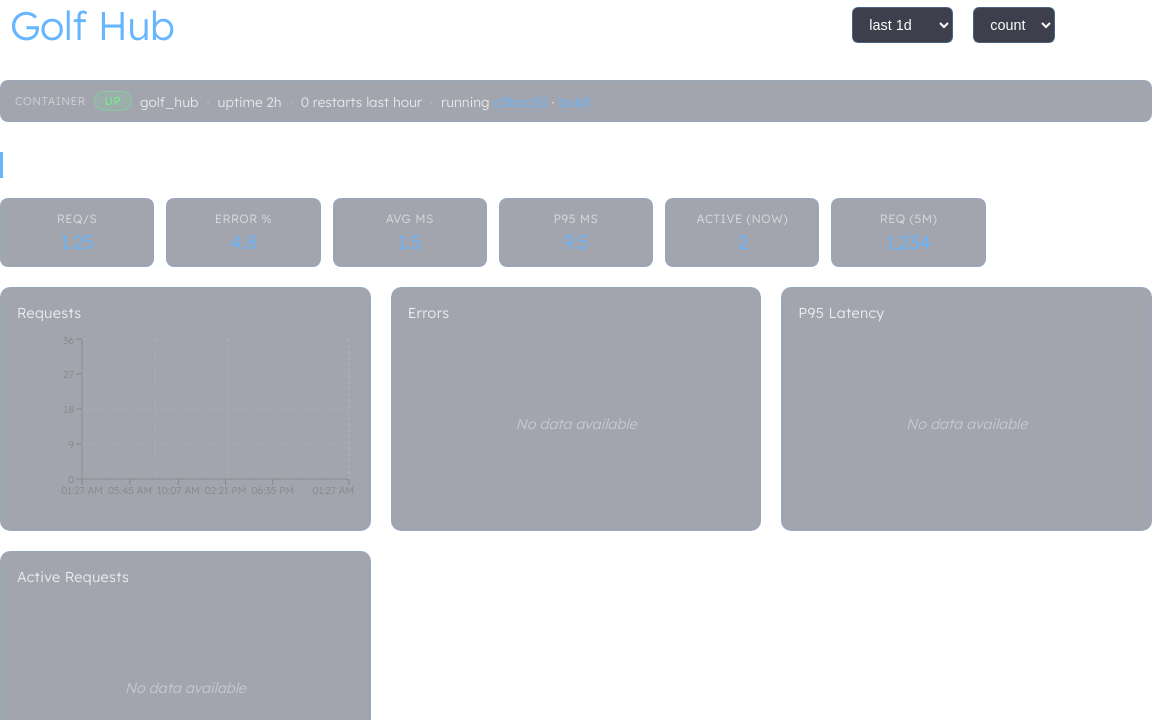
Test case: ServiceDashboard › switches counter tiles between count and rate
Select "rate" in the dropdown named "Counter view" at (1014, 25), box 973,7 -> 1055,43
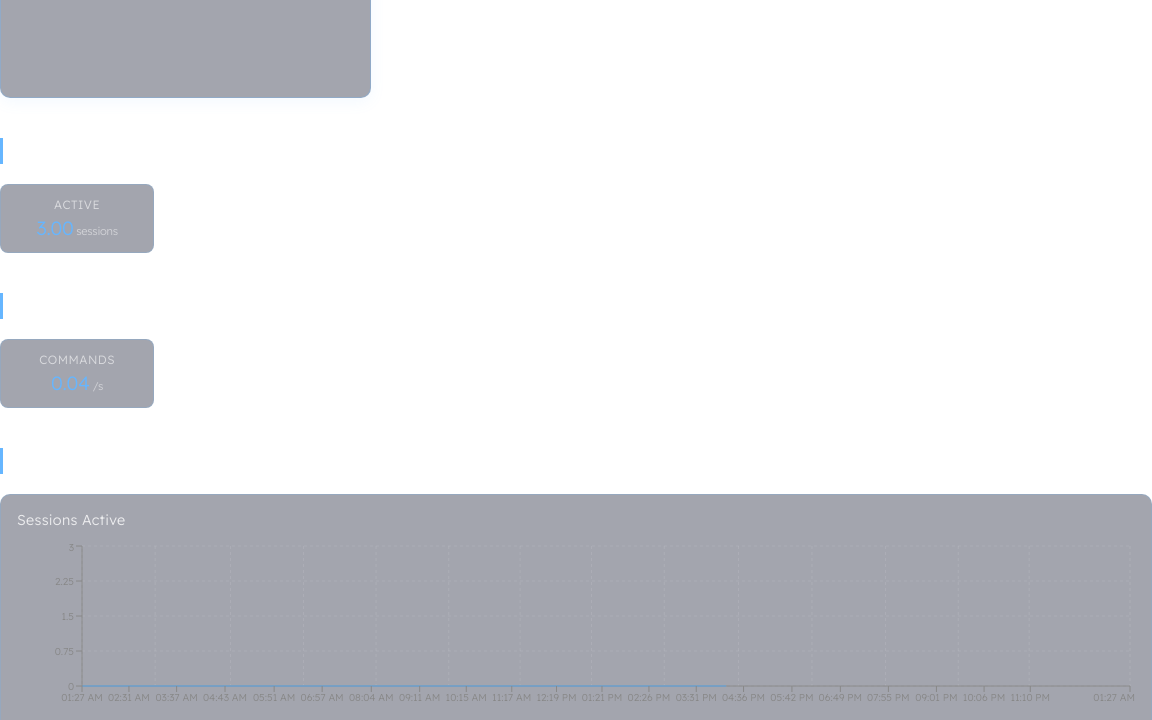
Expected: the text "Commands" is shown, 39,352 -> 115,367
Expected: the text "0.04" is shown, 51,371 -> 90,395
Expected: the text "/s" is shown, 92,379 -> 103,393
